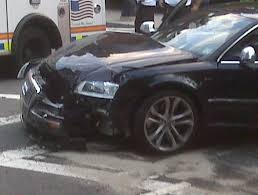Smashed: (20, 46, 137, 144)
